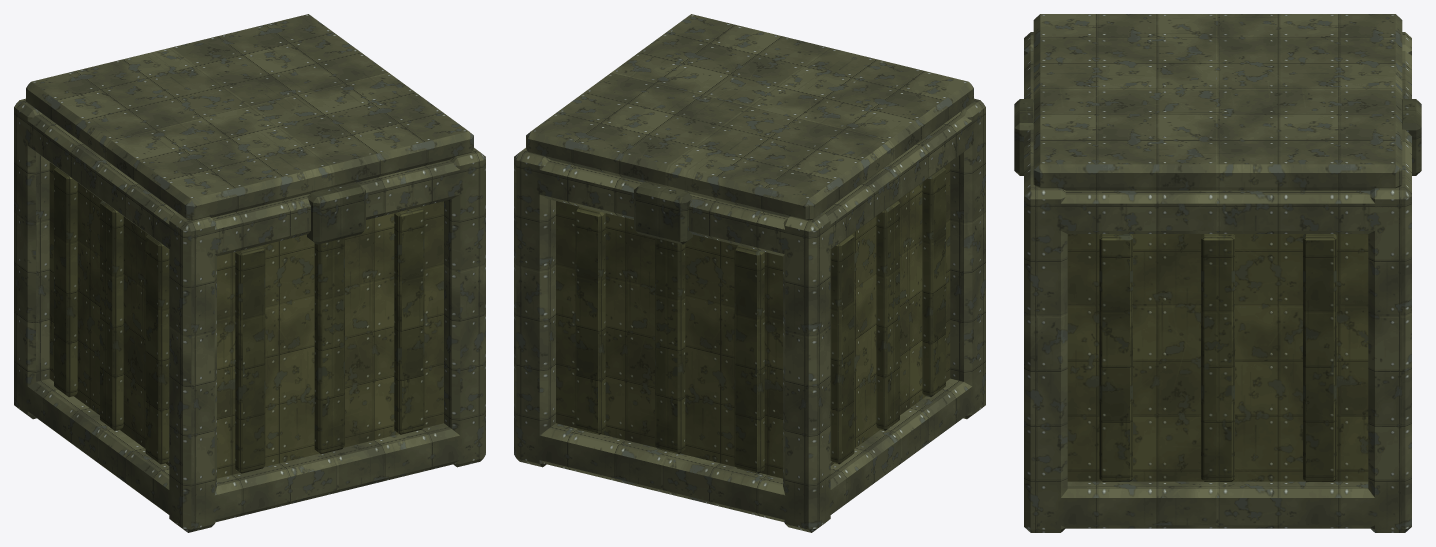
The model's file is cargo_crate.glb.
3 renders of one model, left to right at view 1: azimuth 30°, elevation 25°; view 2: azimuth 150°, elevation 25°; view 3: azimuth 270°, elevation 25°, orthographic. The views are drawn at different scales.
Visible parts, largest first — view 1: cargo_crate; view 2: cargo_crate; view 3: cargo_crate.
Boxes of the visible parts, x1,y1,x2,y2 form: cargo_crate: (14,14,485,532); cargo_crate: (514,14,985,532); cargo_crate: (1014,14,1421,532).
Size of the model in its own units: 0.7711 by 0.8 by 0.8096.
1 material, 1 textured.
